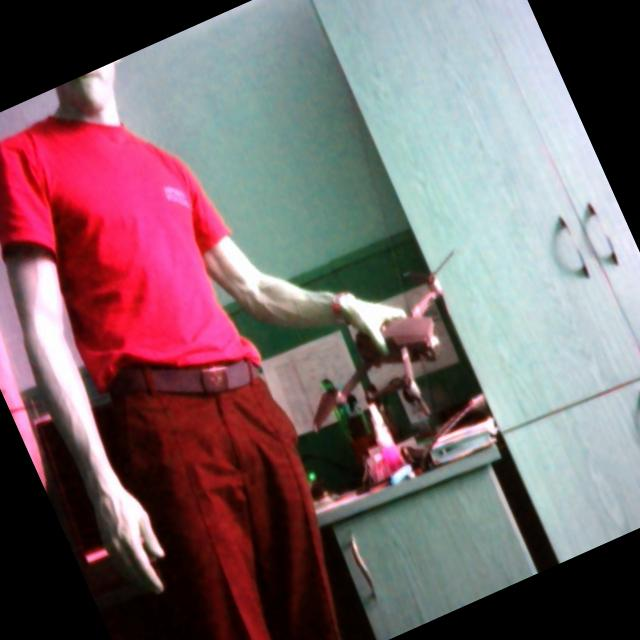drone: (266, 235, 506, 438)
